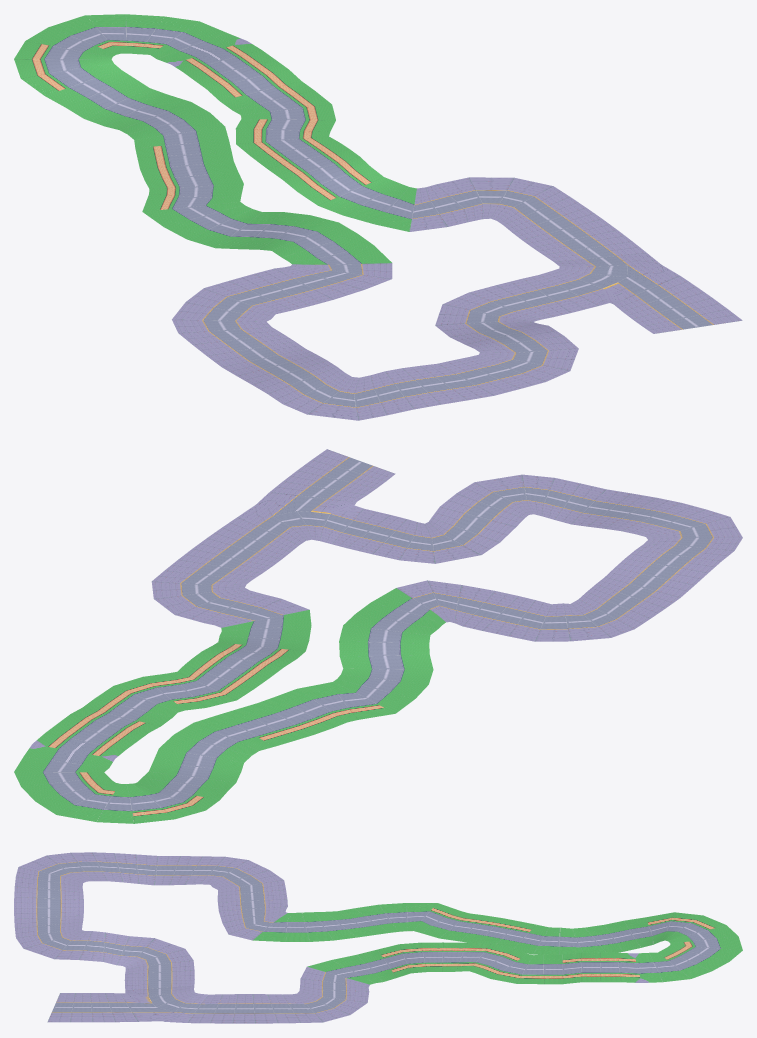
Rendered from Graveblood Track.fbx.
3 renders of one model, top to bottom at view 1: azimuth 30°, elevation 25°; view 2: azimuth 150°, elevation 25°; view 3: azimuth 270°, elevation 25°, orthographic. The views are drawn at different scales.
Visible parts, largest first — view 1: Plane_3; view 2: Plane_3; view 3: Plane_3.
Boxes of the visible parts, left/top/right/bottom form: Plane_3: left=14, top=14, right=742, bottom=420; Plane_3: left=14, top=449, right=742, bottom=823; Plane_3: left=14, top=852, right=742, bottom=1023.
Size of the model in its own units: 13053 by 515 by 24978.
